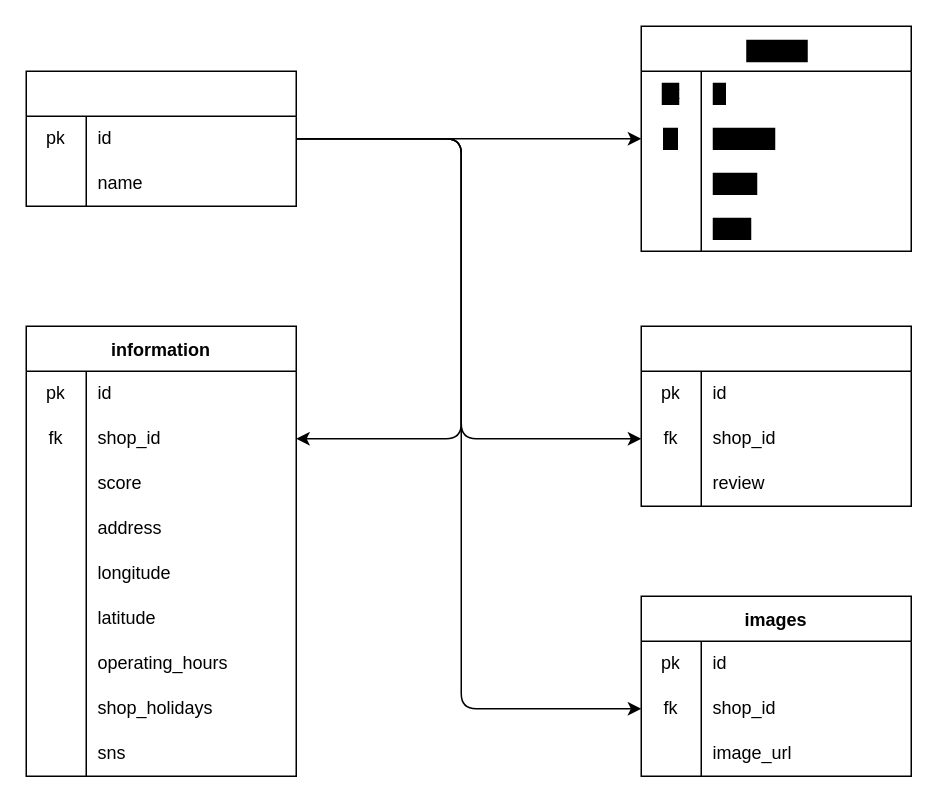
Some shapes in this 938 by 803 pixel diagram are drawn without their labels. Each missing label, with the box of its shape:
reviews: (640, 325, 911, 506)
shops: (25, 70, 296, 206)
